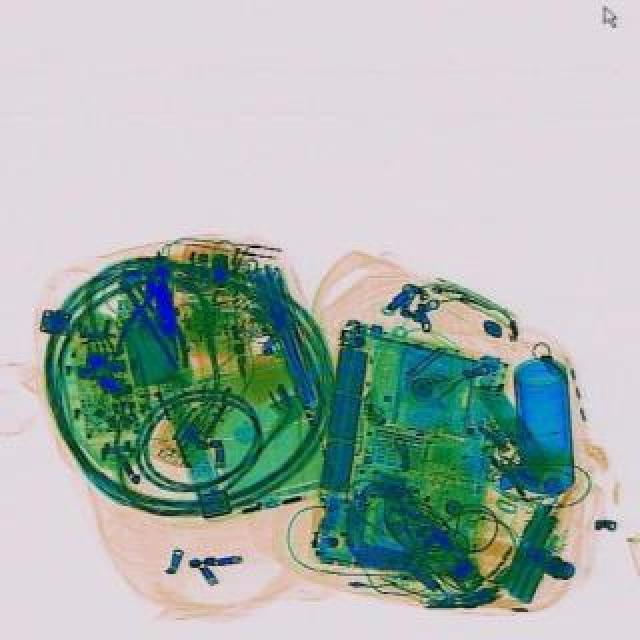wrench: (114, 264, 194, 368)
